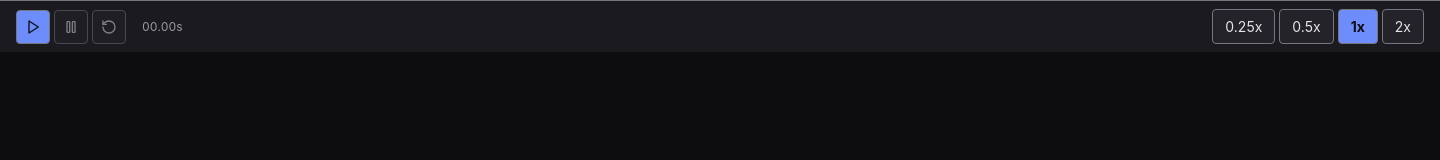
TransportBar (§16/§17, M3.4/M3.5) › M8.3: Play/Pause each get the transport-toggle highlight class, swapping which is "active" as phase changes
The width and height of the screenshot is (1440, 160).
Click the button named "Play".
click(33, 26)  # box [16,10,50,44]
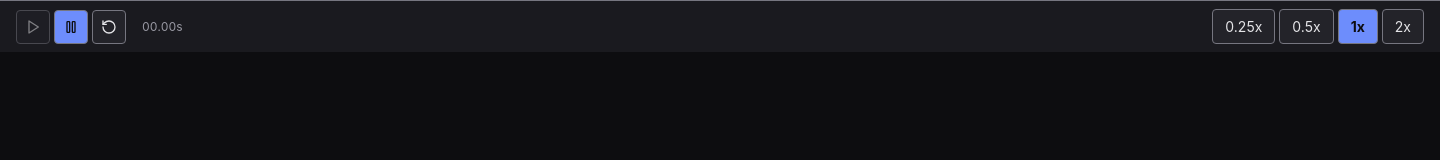
Expected: the button named "Play" is disabled, [16,10,50,44]
Expected: the button named "Pause" is enabled, [54,10,88,44]
